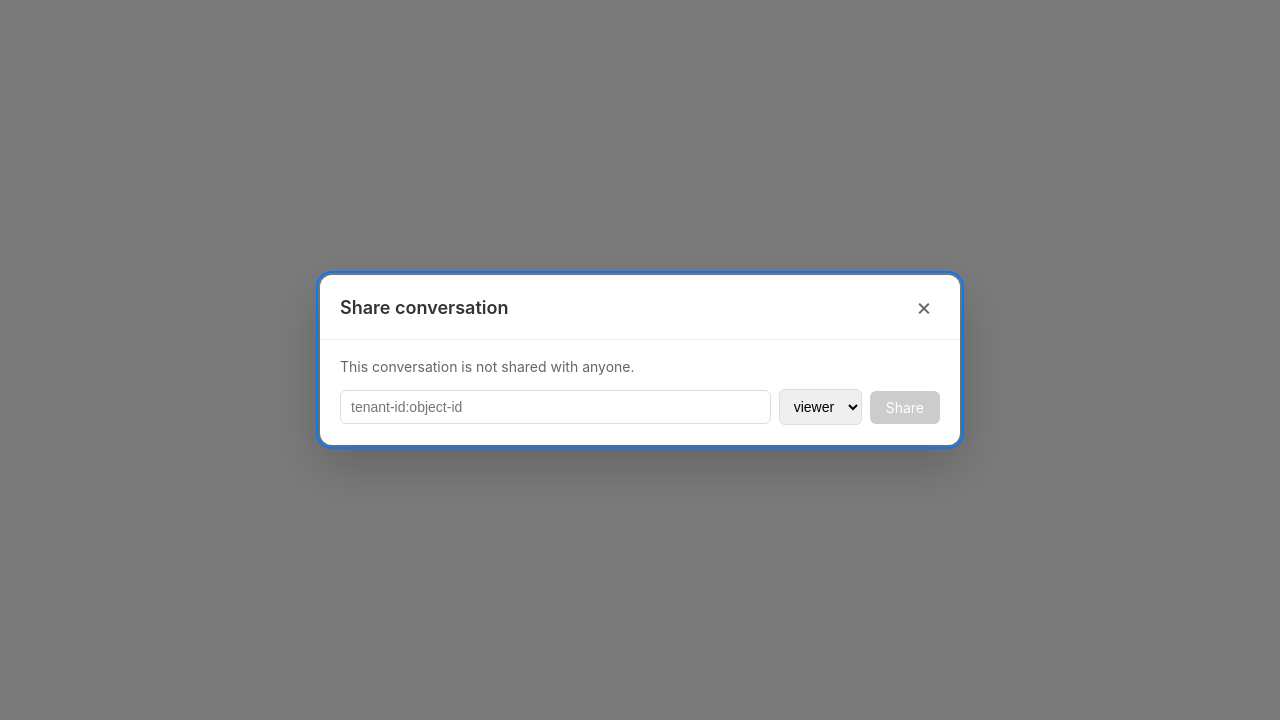
ShareConversationModal mutations › posts the subject and role, then re-reads the roster
Step 1. Type "tid-1:oid-b" into the field with test id "share-subject-input" → [555, 407], box left=340, top=390, right=771, bottom=424
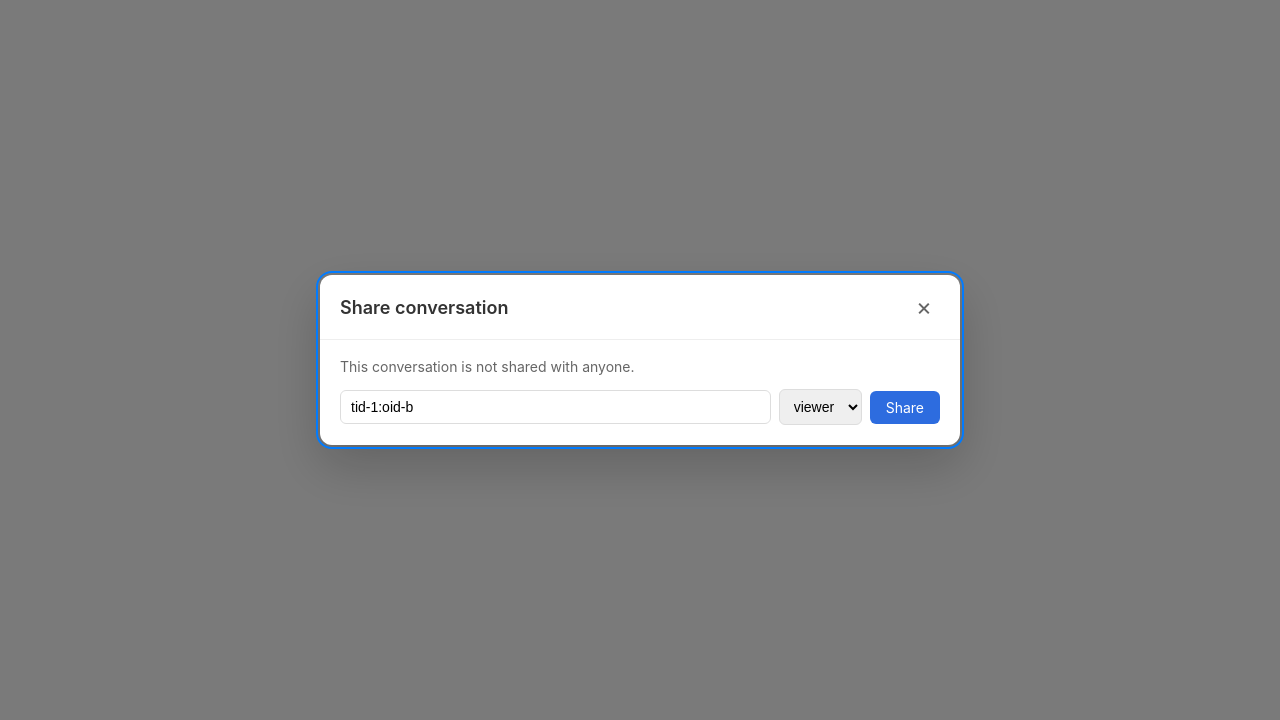
Step 2. Select "editor" in the dropdown with test id "share-role-select" → [820, 407], box left=779, top=389, right=862, bottom=425
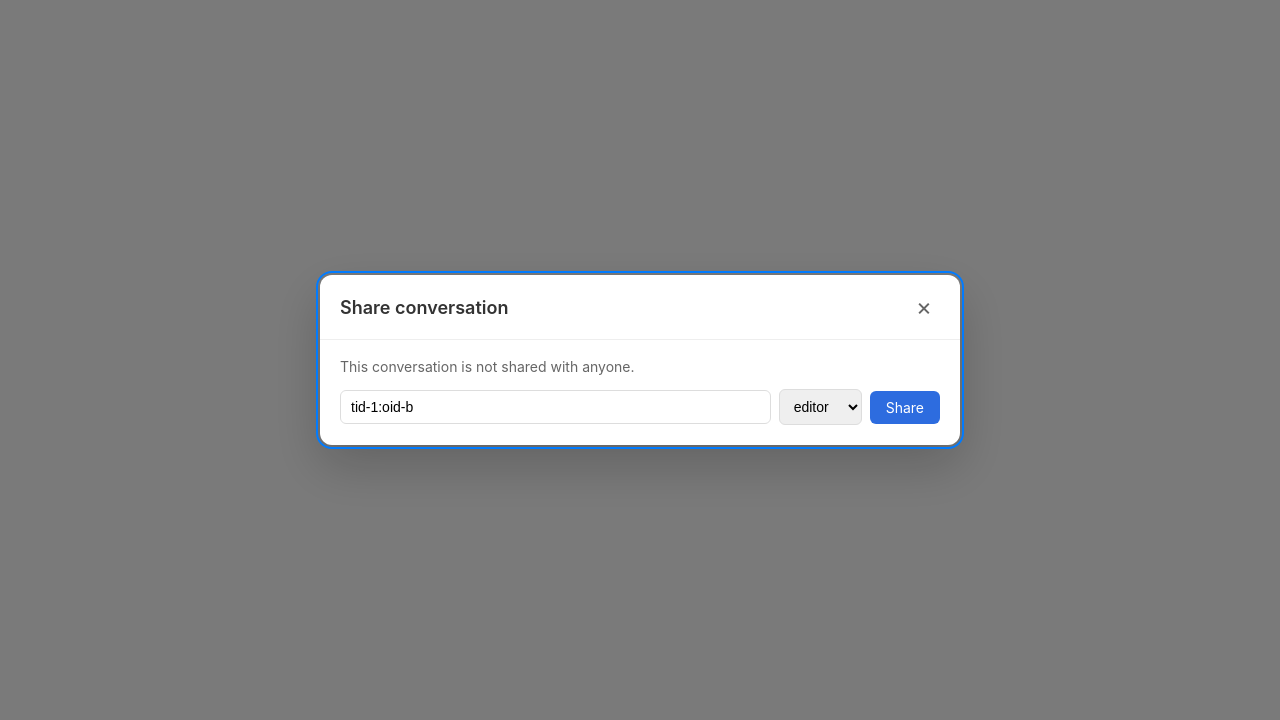
Step 3. Click the button with test id "share-add-button" → [905, 407], box left=870, top=390, right=940, bottom=424
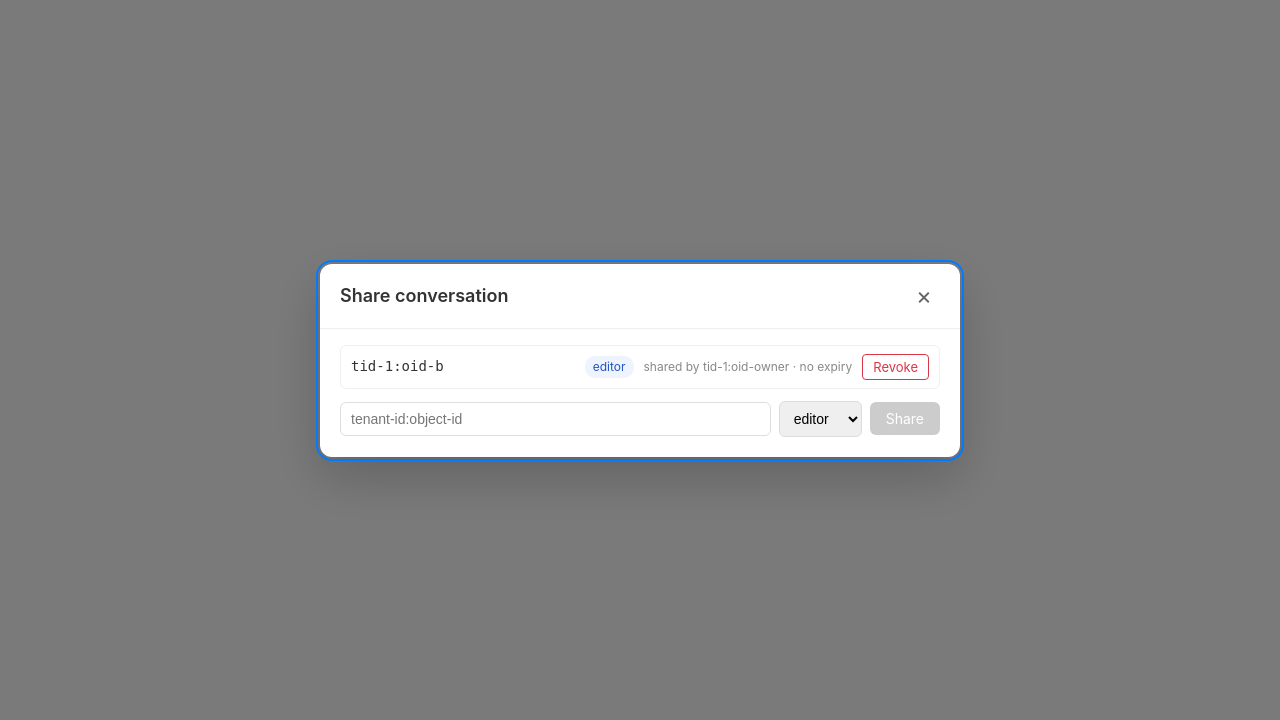
Now the list item with test id "share-row-tid-1:oid-b" is shown, box left=340, top=344, right=940, bottom=388
Now the field with test id "share-subject-input" is empty, box left=340, top=402, right=771, bottom=436
